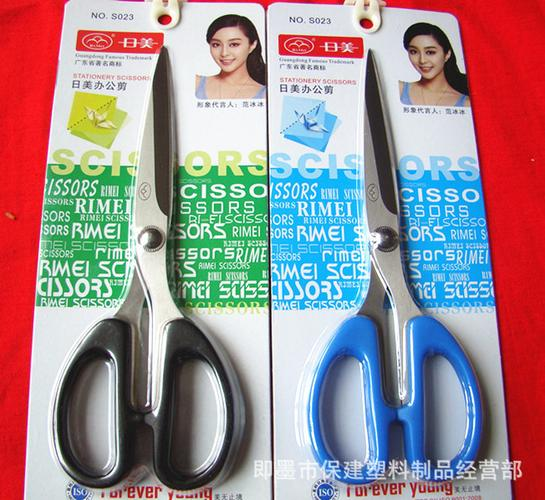scissor: (52, 46, 244, 488), (308, 47, 486, 482)
